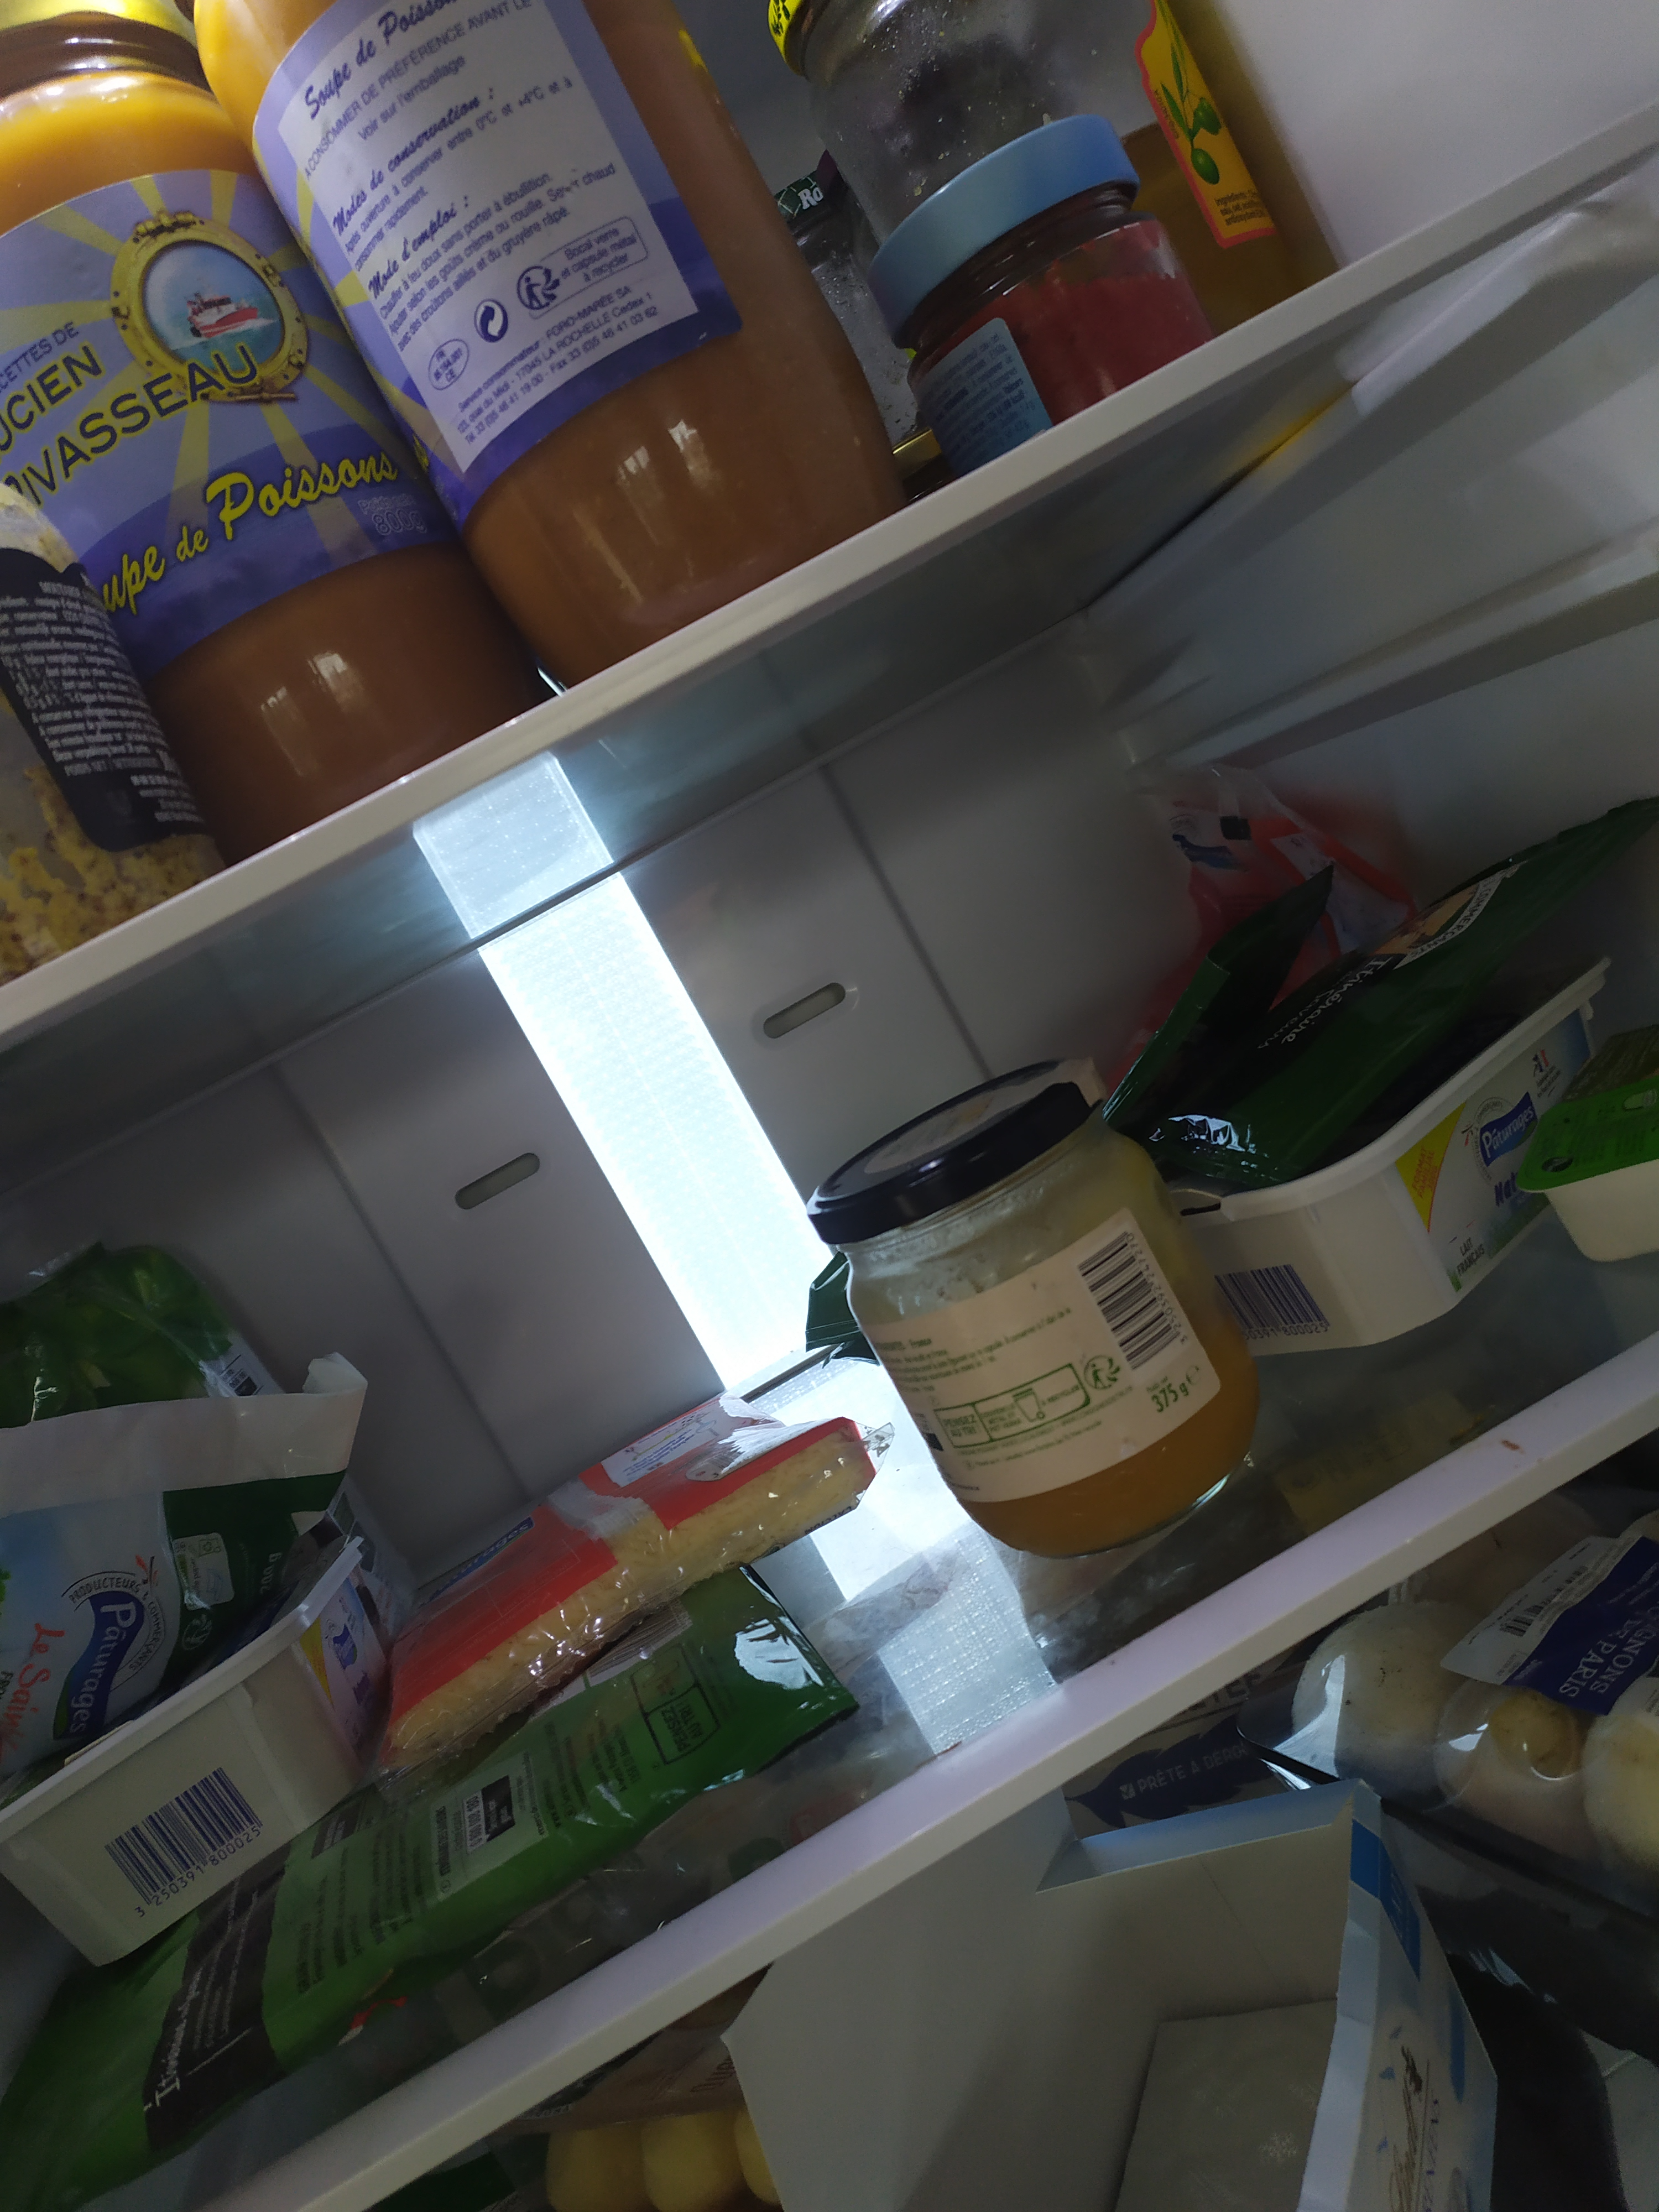mushroom: (1234, 1468, 1659, 2048)
